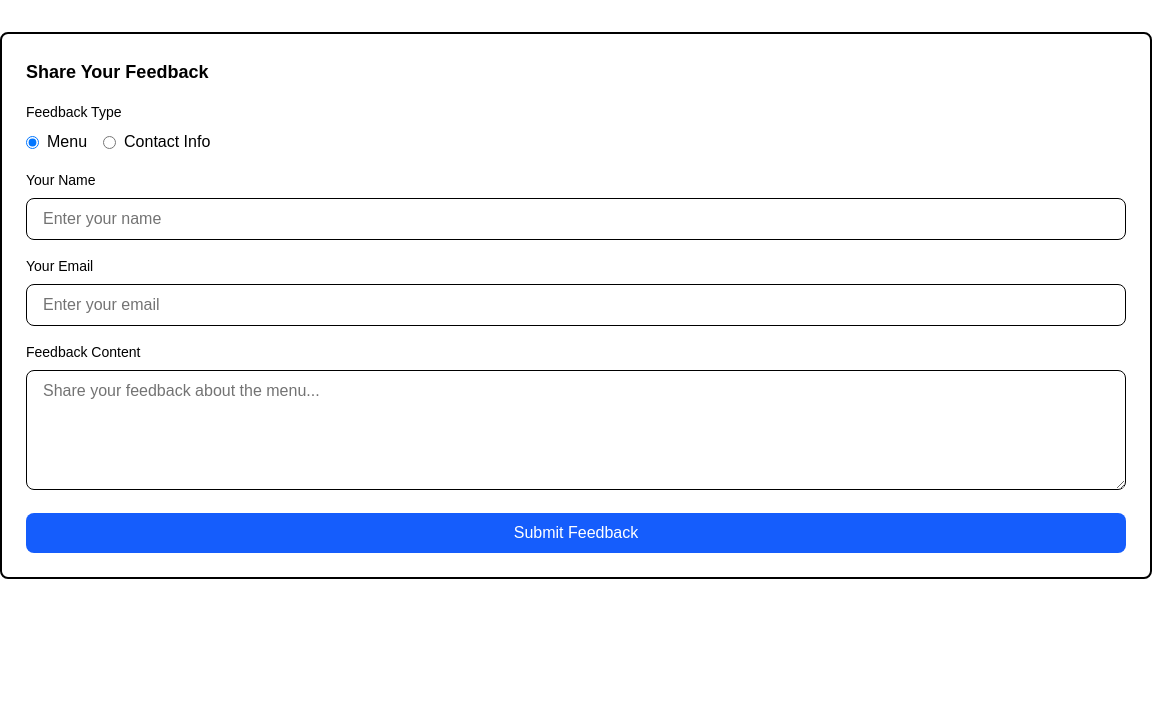
Test: FeedbackForm Component › should show error for empty feedback content
Type "John Doe" into the field labelled "Your Name" at (576, 219), box [26,198,1126,240]
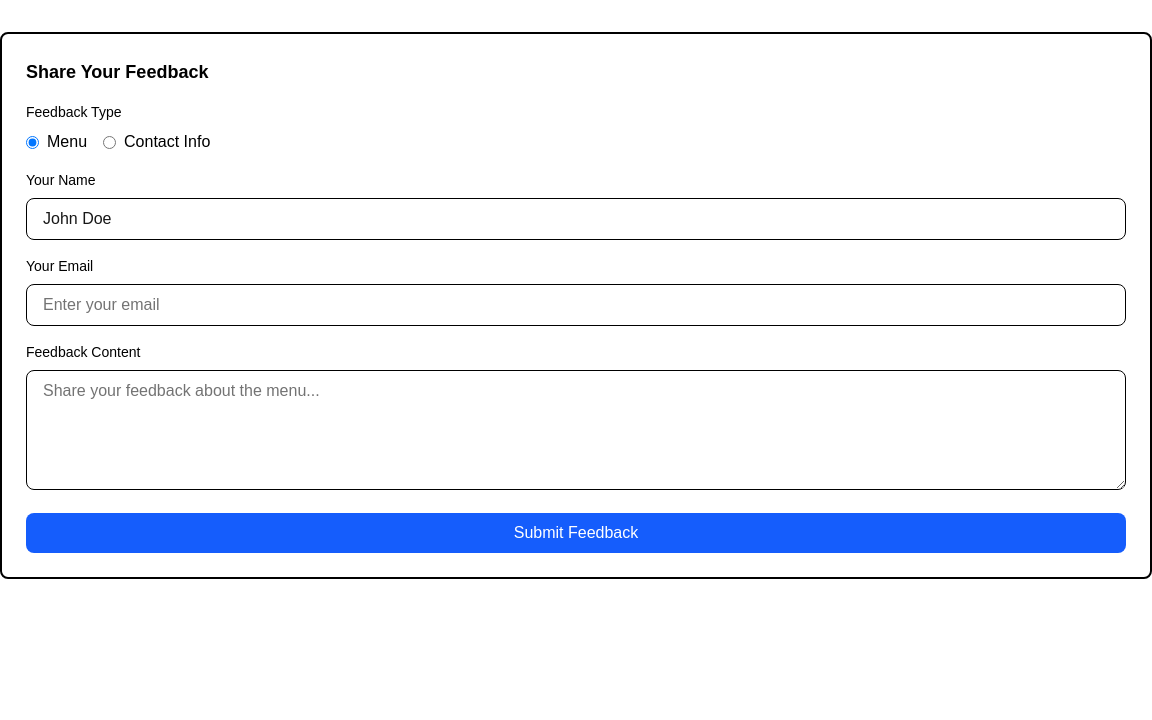
Type "john@example.com" into the field labelled "Your Email" at (576, 305), box [26,284,1126,326]
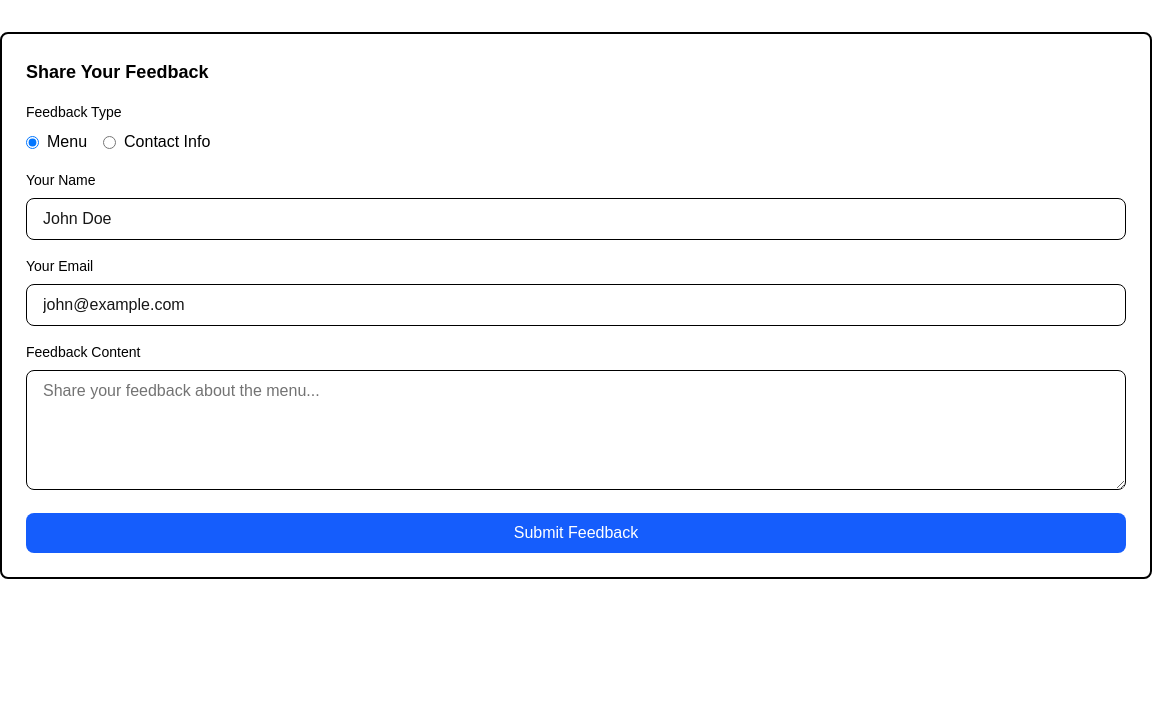
Click the button "Submit Feedback" at (576, 533), box [26,513,1126,553]
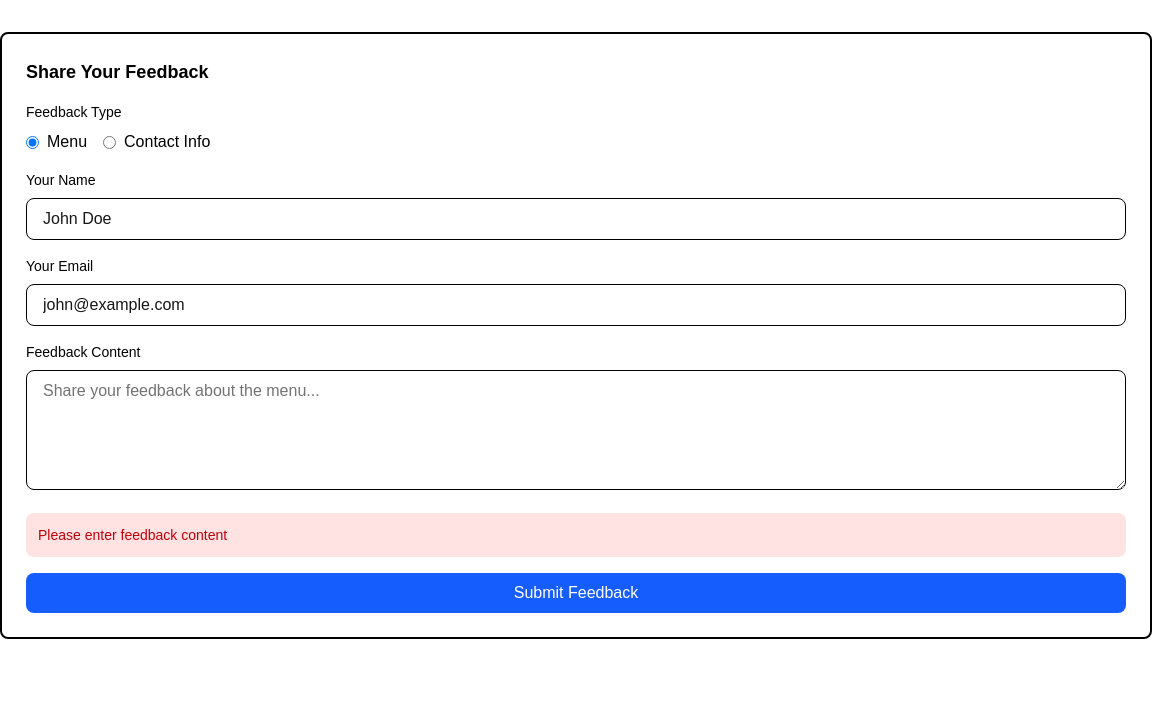
Now the text "Please enter feedback content" is shown, box [26,513,1126,557]
